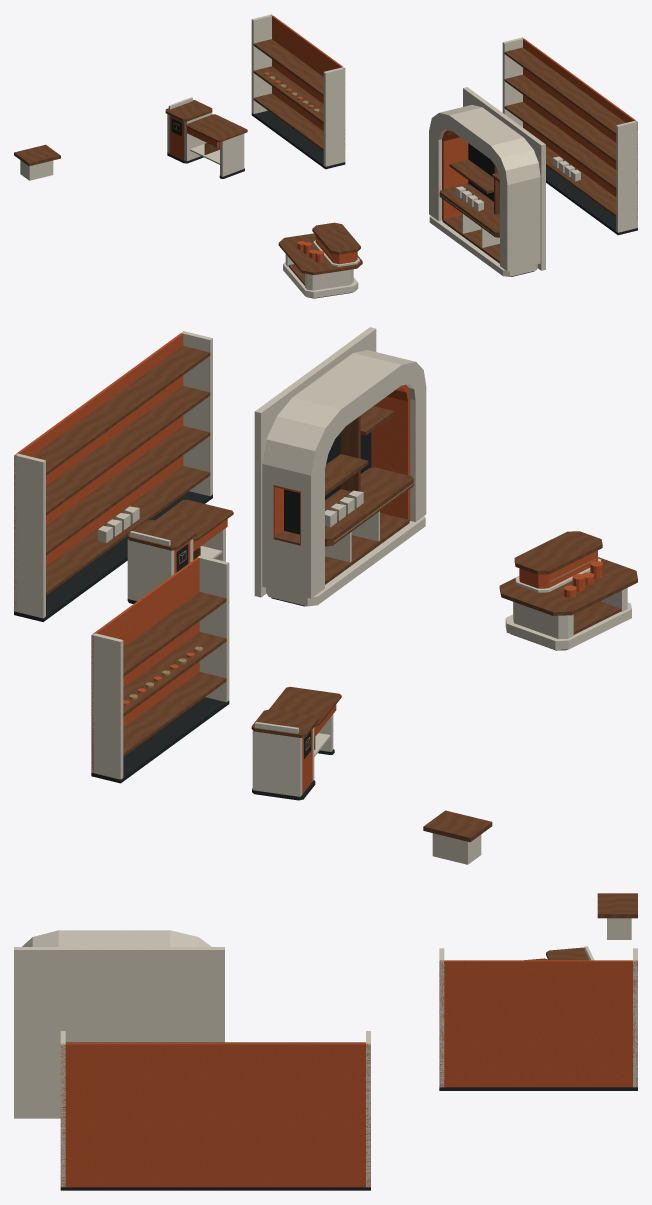
Rendered from SHOP_D09_S100_F314__fitout.glb.
3 renders of one model, top to bottom at view 1: azimuth 30°, elevation 25°; view 2: azimuth 150°, elevation 25°; view 3: azimuth 270°, elevation 25°, orthographic. The views are drawn at different scales.
Visible parts, largest first — view 1: SHOP_D09_S100_F314__fitout__ivory_enamel, SHOP_D09_S100_F314__fitout__warm_walnut, SHOP_D09_S100_F314__fitout__retail_terracotta_enamel, SHOP_D09_S100_F314__fitout__dark_rubber; view 2: SHOP_D09_S100_F314__fitout__ivory_enamel, SHOP_D09_S100_F314__fitout__warm_walnut, SHOP_D09_S100_F314__fitout__retail_terracotta_enamel, SHOP_D09_S100_F314__fitout__dark_rubber; view 3: SHOP_D09_S100_F314__fitout__retail_terracotta_enamel, SHOP_D09_S100_F314__fitout__ivory_enamel, SHOP_D09_S100_F314__fitout__warm_walnut, SHOP_D09_S100_F314__fitout__dark_rubber.
Part boxes in pixels (x1=…): SHOP_D09_S100_F314__fitout__ivory_enamel: x1=20, y1=14, x2=637, y2=298; SHOP_D09_S100_F314__fitout__warm_walnut: x1=14, y1=39, x2=625, y2=285; SHOP_D09_S100_F314__fitout__retail_terracotta_enamel: x1=169, y1=15, x2=637, y2=264; SHOP_D09_S100_F314__fitout__dark_rubber: x1=167, y1=110, x2=637, y2=298; SHOP_D09_S100_F314__fitout__ivory_enamel: x1=14, y1=327, x2=631, y2=864; SHOP_D09_S100_F314__fitout__warm_walnut: x1=32, y1=346, x2=637, y2=842; SHOP_D09_S100_F314__fitout__retail_terracotta_enamel: x1=14, y1=333, x2=603, y2=793; SHOP_D09_S100_F314__fitout__dark_rubber: x1=14, y1=432, x2=567, y2=800; SHOP_D09_S100_F314__fitout__retail_terracotta_enamel: x1=60, y1=960, x2=637, y2=1187; SHOP_D09_S100_F314__fitout__ivory_enamel: x1=14, y1=918, x2=637, y2=1187; SHOP_D09_S100_F314__fitout__warm_walnut: x1=65, y1=893, x2=637, y2=1043; SHOP_D09_S100_F314__fitout__dark_rubber: x1=60, y1=1087, x2=637, y2=1190.
Bounding box in the file's own units: 10.25 × 3 × 10.05.
Materials: 5 (5 with a texture image).
